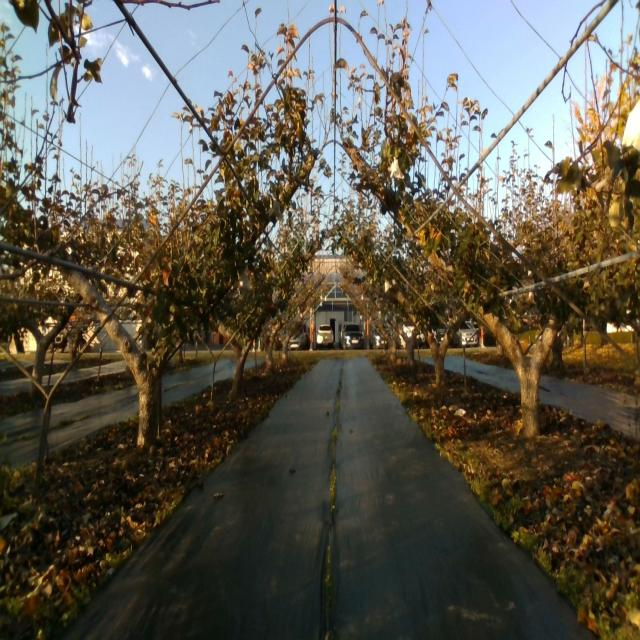pearbags: (388, 156, 403, 179)
